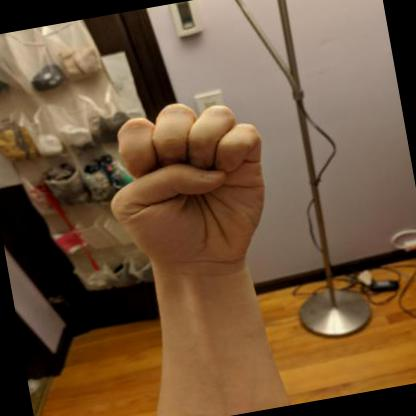E: (110, 103, 264, 279)
